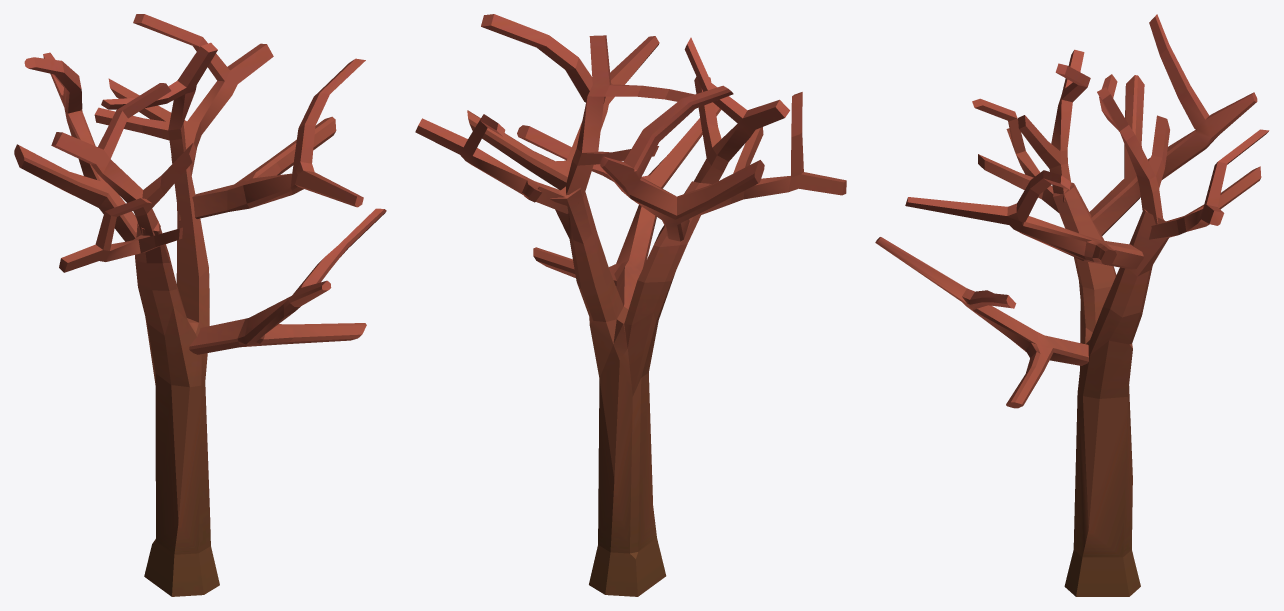
3 views of the same model, side by side, from view 1: azimuth 30°, elevation 25°; view 2: azimuth 150°, elevation 25°; view 3: azimuth 270°, elevation 25° (orthographic). The views are drawn at different scales.
Parts seen in each view (by area): view 1: TreeDead1; view 2: TreeDead1; view 3: TreeDead1.
Boxes of the visible parts, x1,y1,x2,y2 form: TreeDead1: (14, 14, 386, 596); TreeDead1: (415, 14, 846, 596); TreeDead1: (875, 14, 1269, 596).
Size of the model in its own units: 258 by 400 by 279.
Materials: 1 (1 with a texture image).
